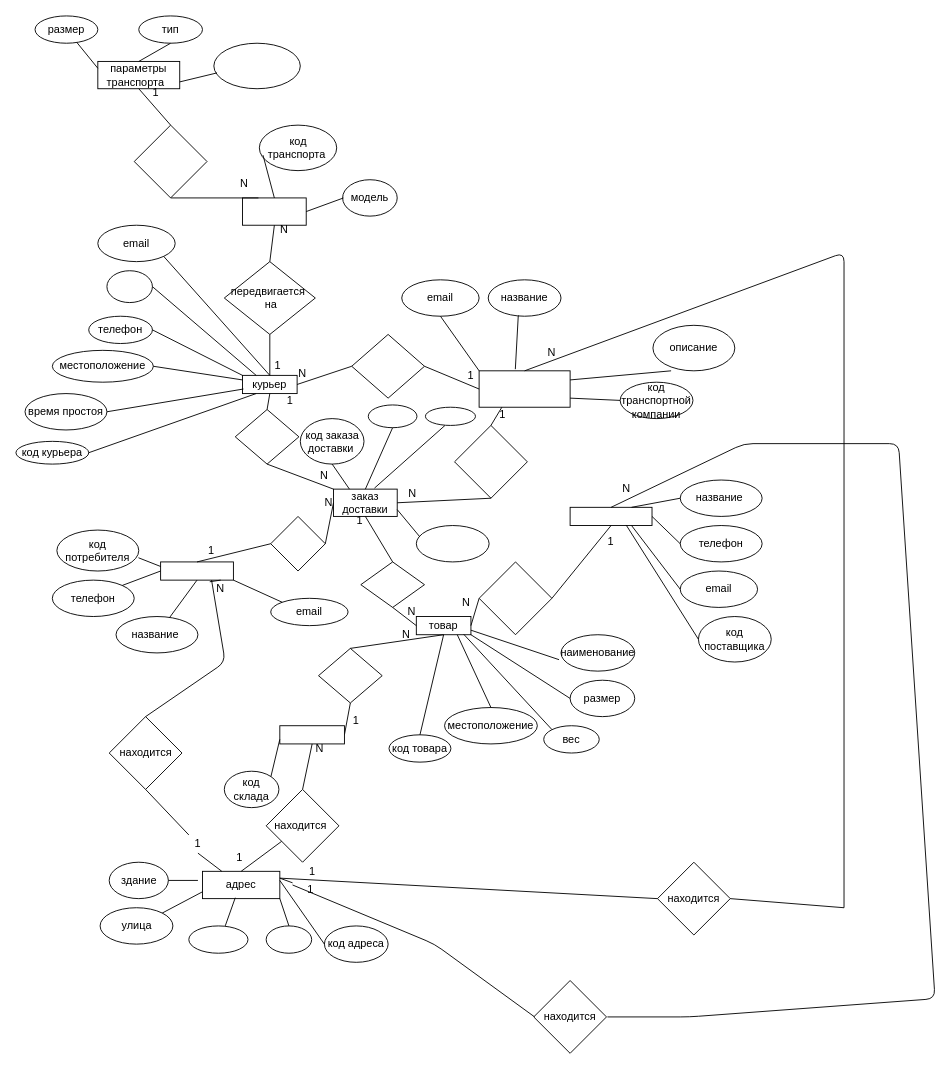
Some shapes in this 952 by 1069 pixel diagram are drawn without their labels. The shapes that lost their labels are listed below. From the top down, each one's centre as x and y in pixels, then its label:
At (256,65): "код параметров транспорта".
At (170,161): "обладает".
At (274,211): "транспорт".
At (129,286): "ФИО".
At (388,366): "работает в".
At (524,388): "транспортная компания".
At (392,416): "статус".
At (450,415): "цена".
At (266,436): "выполняет доставку".
At (490,461): "обрабатывает".
At (610,516): "поставщик".
At (297,543): "заказ".
At (452,543): "время доставки".
At (196,570): "потребитель".
At (392,584): "содержит".
At (515,598): "производит".
At (350,675): "хранится".
At (311,734): "склад".
At (218,939): "страна".
At (288,939): "город".
